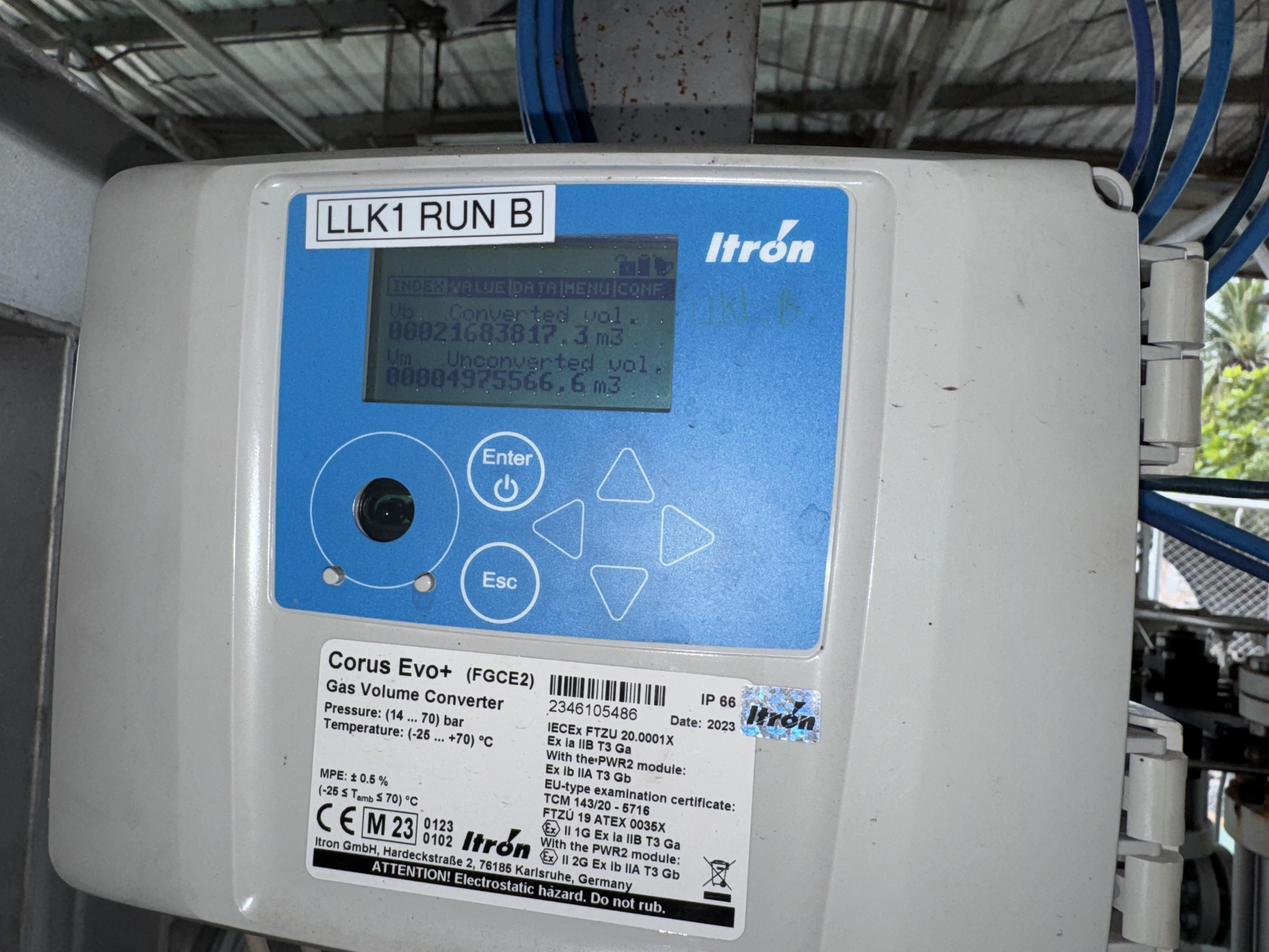digital_screen: (363, 226, 679, 411)
